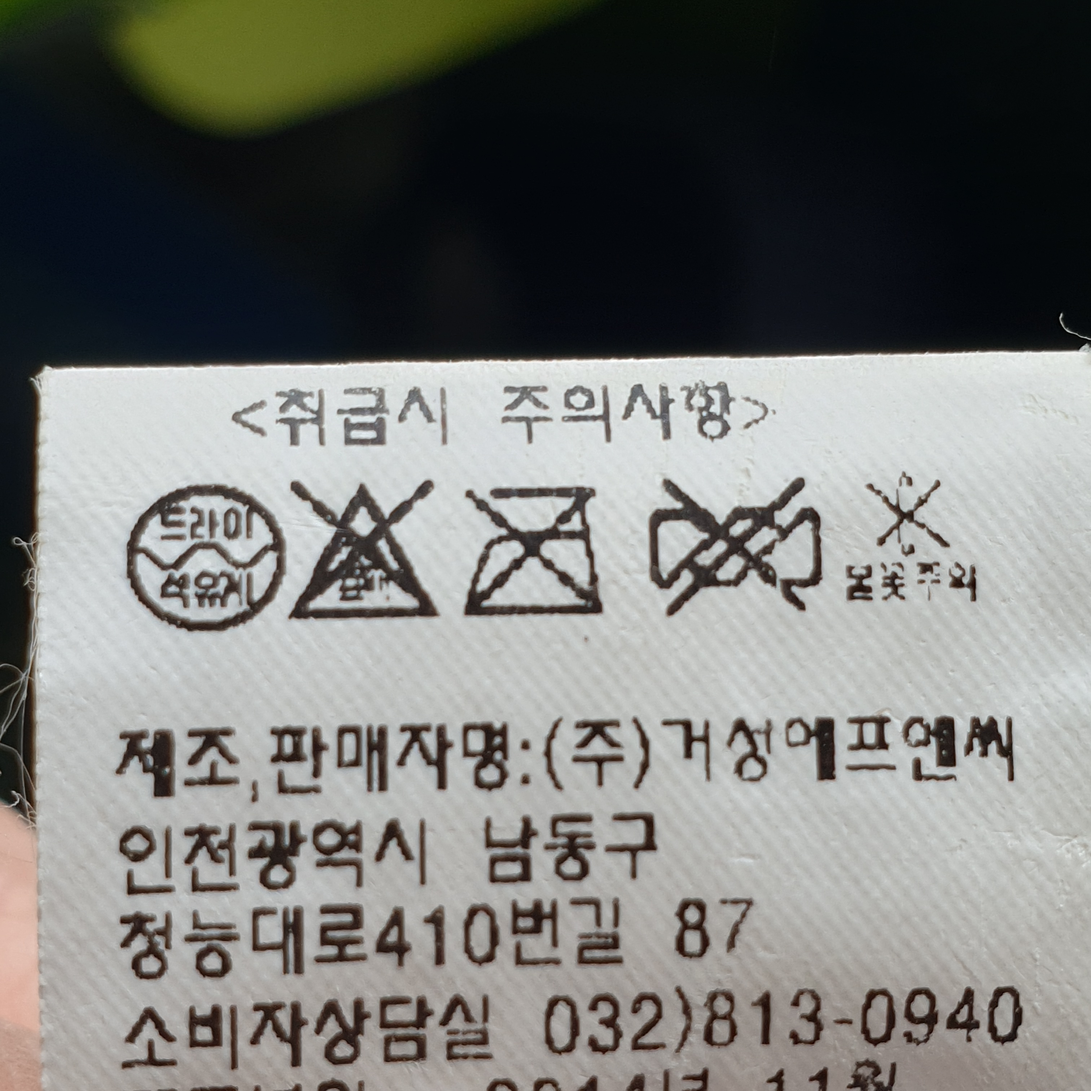KR_dry_clean_petroleum: (121, 480, 290, 638)
KR_no_chlorine_bleach: (289, 483, 432, 628)
KR_no_iron: (450, 472, 612, 629)
KR_no_wring: (648, 466, 827, 619)
